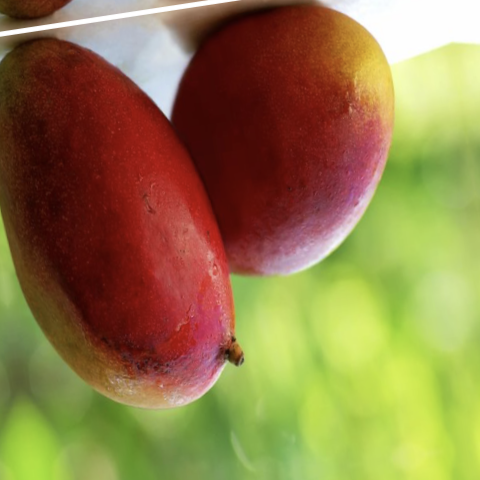mango: (0, 2, 276, 435), (122, 0, 442, 297)
